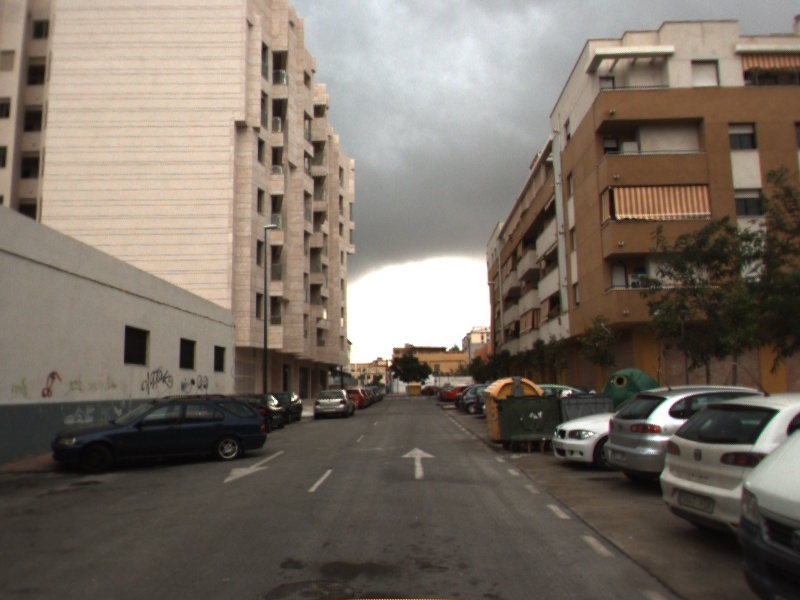STRAIGHT: (399, 445, 439, 481)
